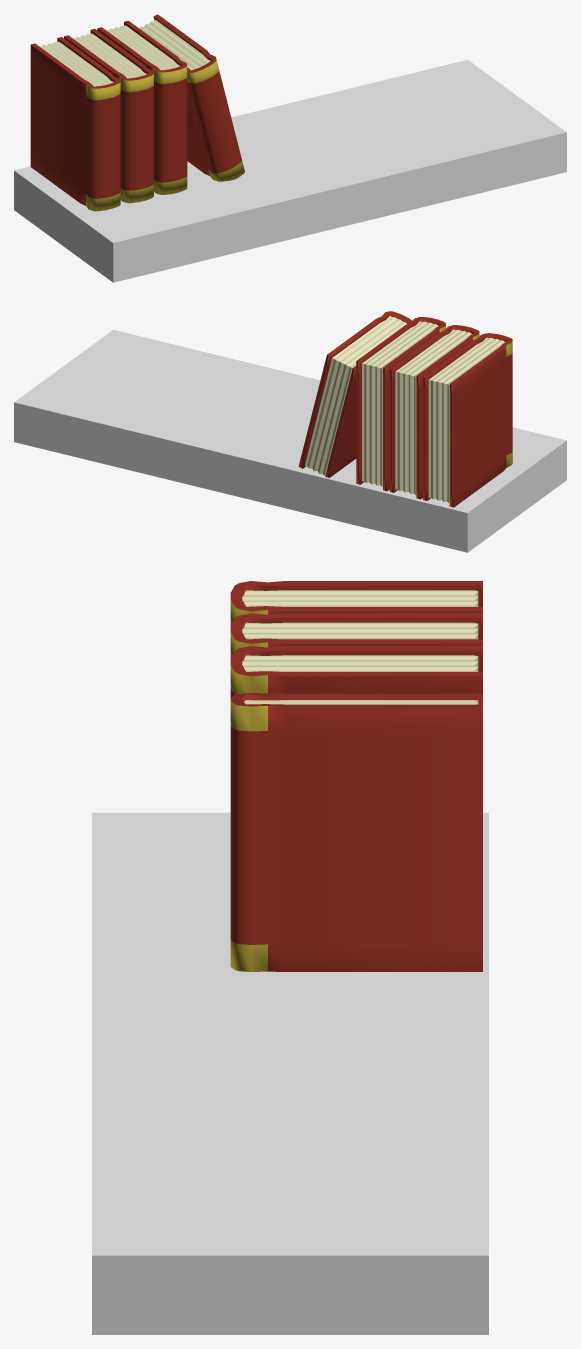
The model's file is shelves_tier1.fbx.
3 renders of one model, top to bottom at view 1: azimuth 30°, elevation 25°; view 2: azimuth 150°, elevation 25°; view 3: azimuth 270°, elevation 25°, orthographic. The views are drawn at different scales.
Parts seen in each view (by area): view 1: Cube, Cube.001, Cube.004, Cube.003, Cube.002; view 2: Cube, Cube.001, Cube.004, Cube.003, Cube.002; view 3: Cube, Cube.004, Cube.003, Cube.002, Cube.001.
Part boxes in pixels (x1=…): Cube: x1=14, y1=59, x2=566, y2=282; Cube.001: x1=30, y1=37, x2=120, y2=211; Cube.004: x1=139, y1=14, x2=244, y2=181; Cube.003: x1=97, y1=20, x2=187, y2=194; Cube.002: x1=64, y1=29, x2=153, y2=203; Cube: x1=14, y1=329, x2=566, y2=552; Cube.001: x1=423, y1=333, x2=512, y2=507; Cube.004: x1=298, y1=311, x2=411, y2=477; Cube.003: x1=356, y1=317, x2=445, y2=491; Cube.002: x1=389, y1=325, x2=479, y2=499; Cube: x1=92, y1=812, x2=488, y2=1334; Cube.004: x1=230, y1=693, x2=482, y2=971; Cube.003: x1=230, y1=646, x2=482, y2=697; Cube.002: x1=230, y1=613, x2=482, y2=657; Cube.001: x1=230, y1=581, x2=482, y2=624.
Size of the model in its own units: 129 by 44.27 by 48.85.
